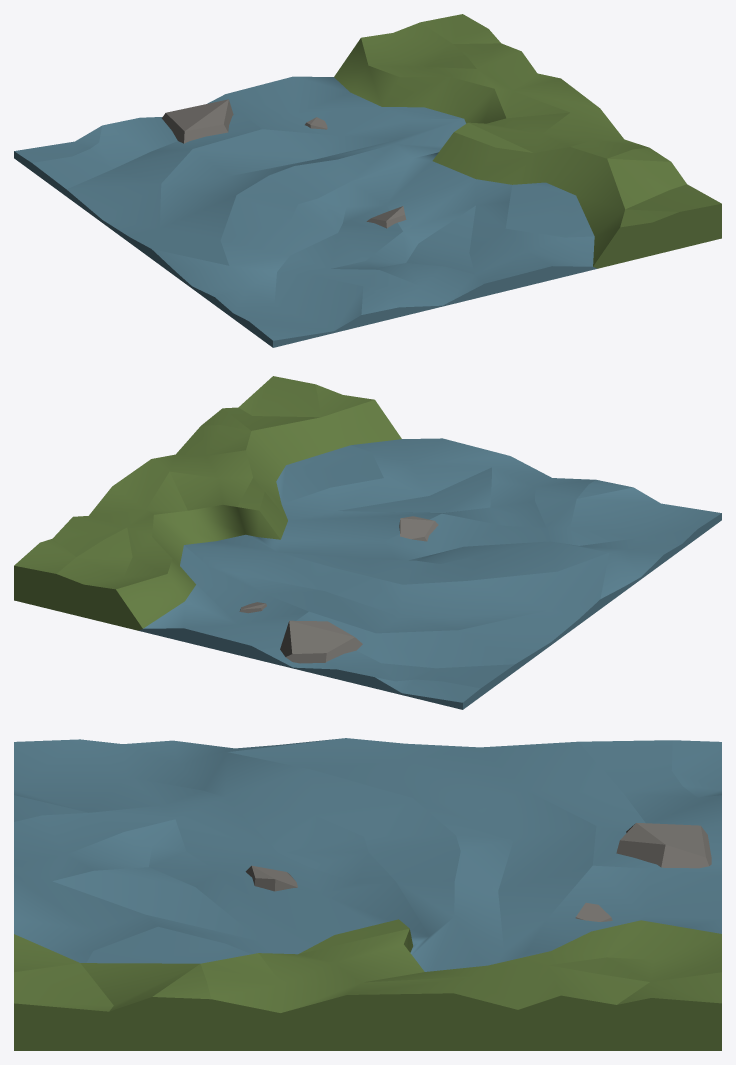
The model's file is Water_Edge_R.glb.
3 renders of one model, top to bottom at view 1: azimuth 30°, elevation 25°; view 2: azimuth 150°, elevation 25°; view 3: azimuth 270°, elevation 25°, orthographic. The views are drawn at different scales.
Parts seen in each view (by area): view 1: Water_Edge_R; view 2: Water_Edge_R; view 3: Water_Edge_R.
Part boxes in pixels (bbox=[...]): Water_Edge_R: bbox=[14, 14, 721, 347]; Water_Edge_R: bbox=[14, 376, 721, 709]; Water_Edge_R: bbox=[14, 738, 721, 1050].
Size of the model in its own units: 1.47 by 0.1317 by 1.47.
